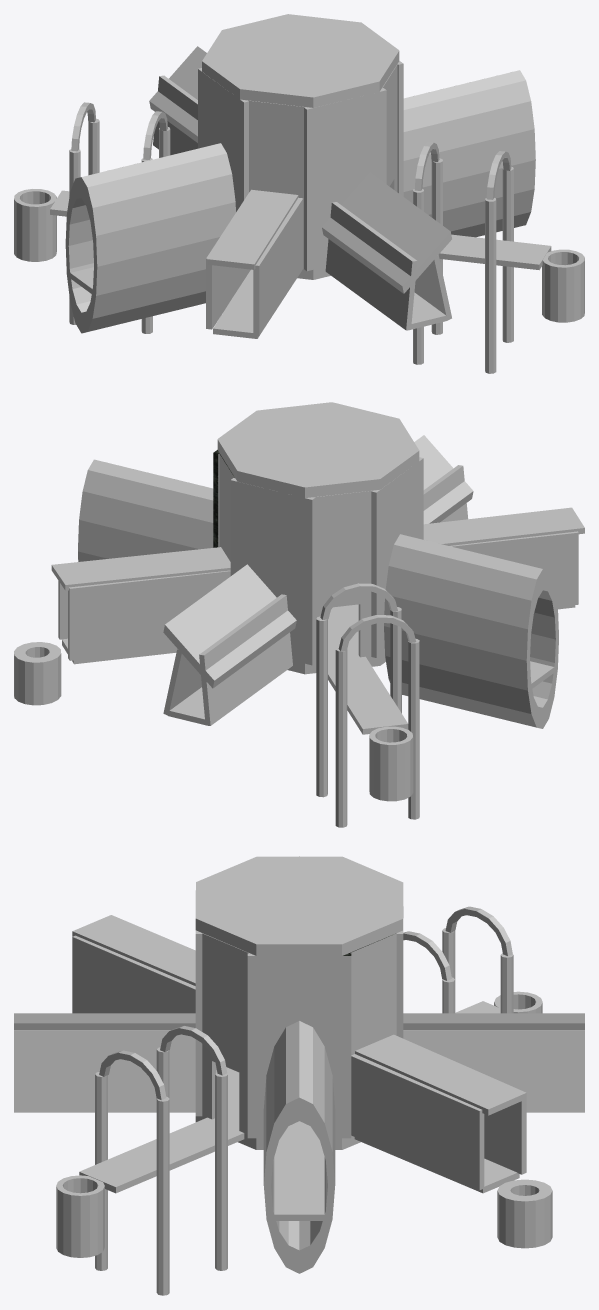
File: PD_startroom.gltf
The picture shows the model from 3 angles, top to bottom: view 1: azimuth 30°, elevation 25°; view 2: azimuth 150°, elevation 25°; view 3: azimuth 270°, elevation 25°; orthographic projection. The views are drawn at different scales.
Visible parts, largest first — view 1: PD_startroom; view 2: PD_startroom; view 3: PD_startroom.
Boxes of the visible parts, box(x1,y1,x2,y2) form: PD_startroom: box(14, 14, 584, 373); PD_startroom: box(14, 402, 584, 827); PD_startroom: box(14, 856, 584, 1295).
Bounding box in the file's own units: 28.16 × 16.96 × 28.16.
